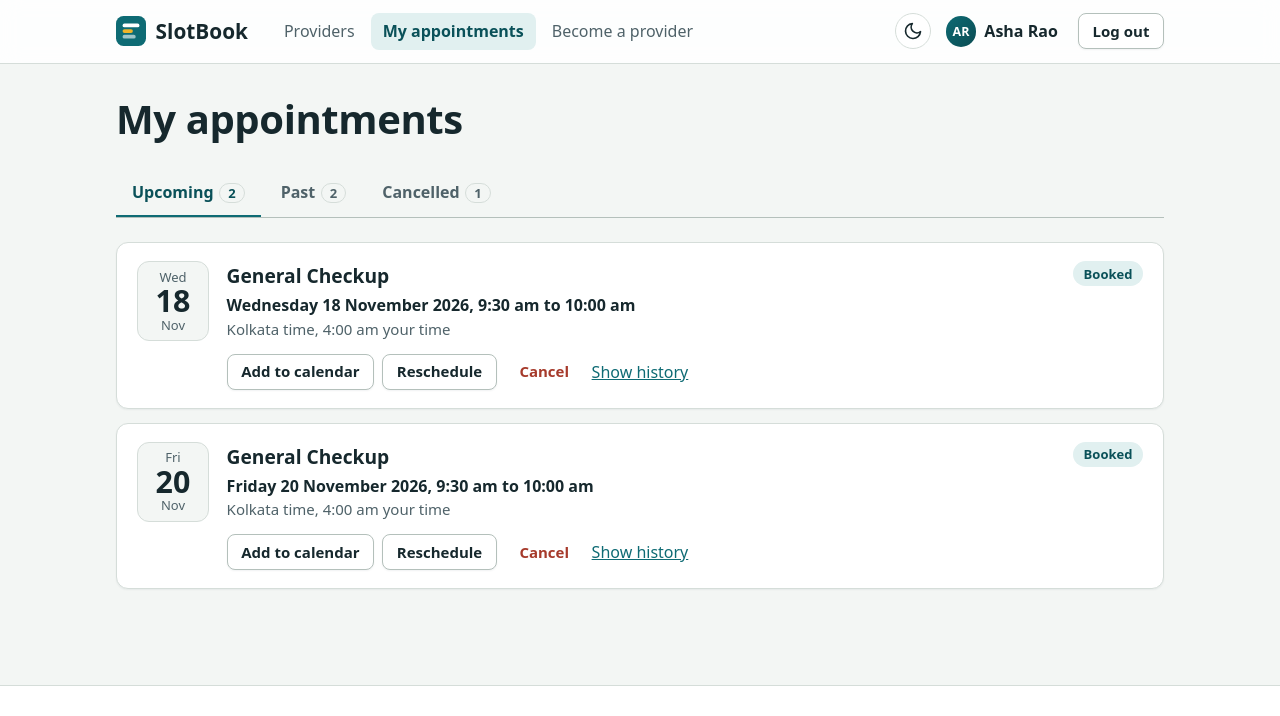
Test: my appointments › closes the dialog with Escape without cancelling anything
Click the button "Cancel" below "Wednesday 18 November 2026" at (544, 372), box [505, 354, 584, 390]
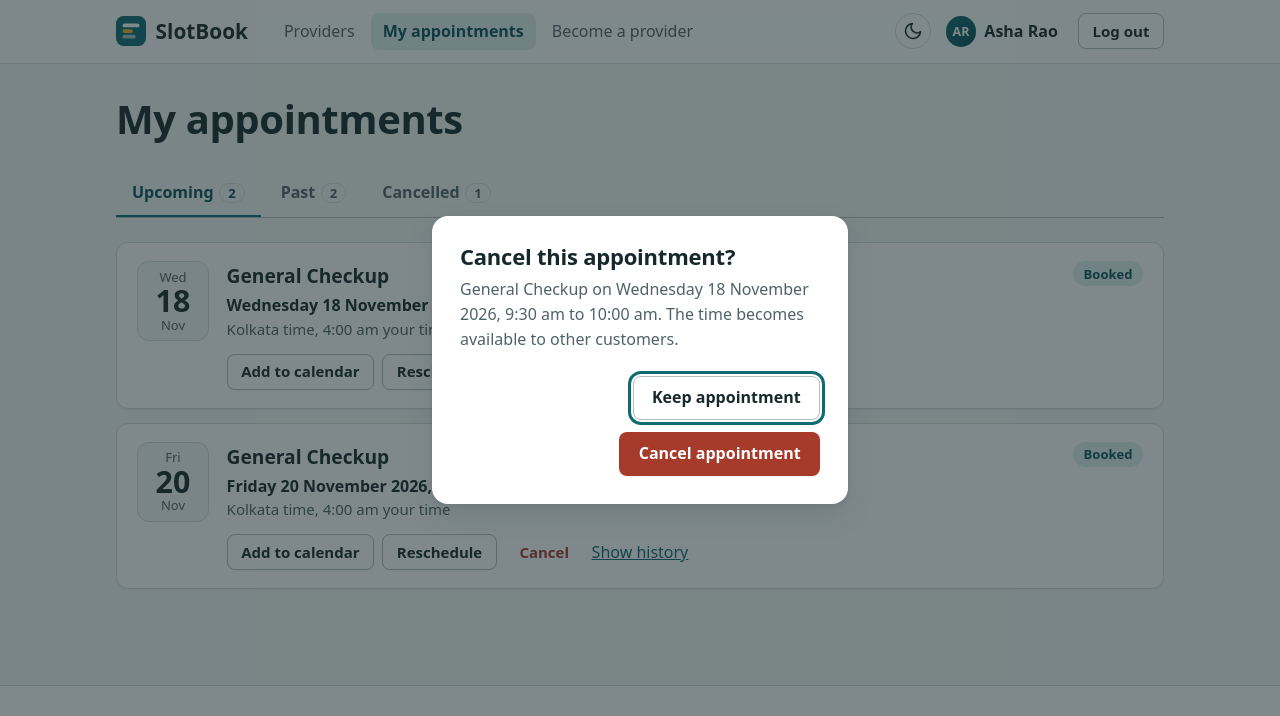
Press Escape
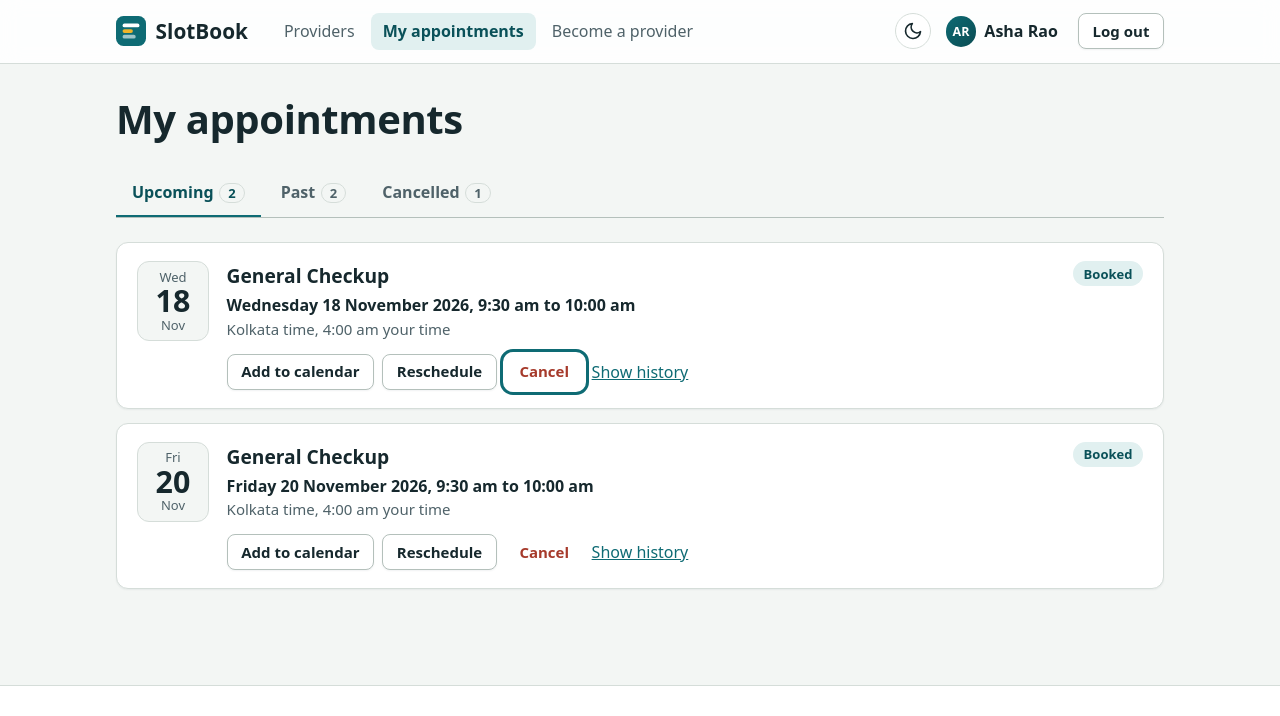
expect the dialog is gone: met
